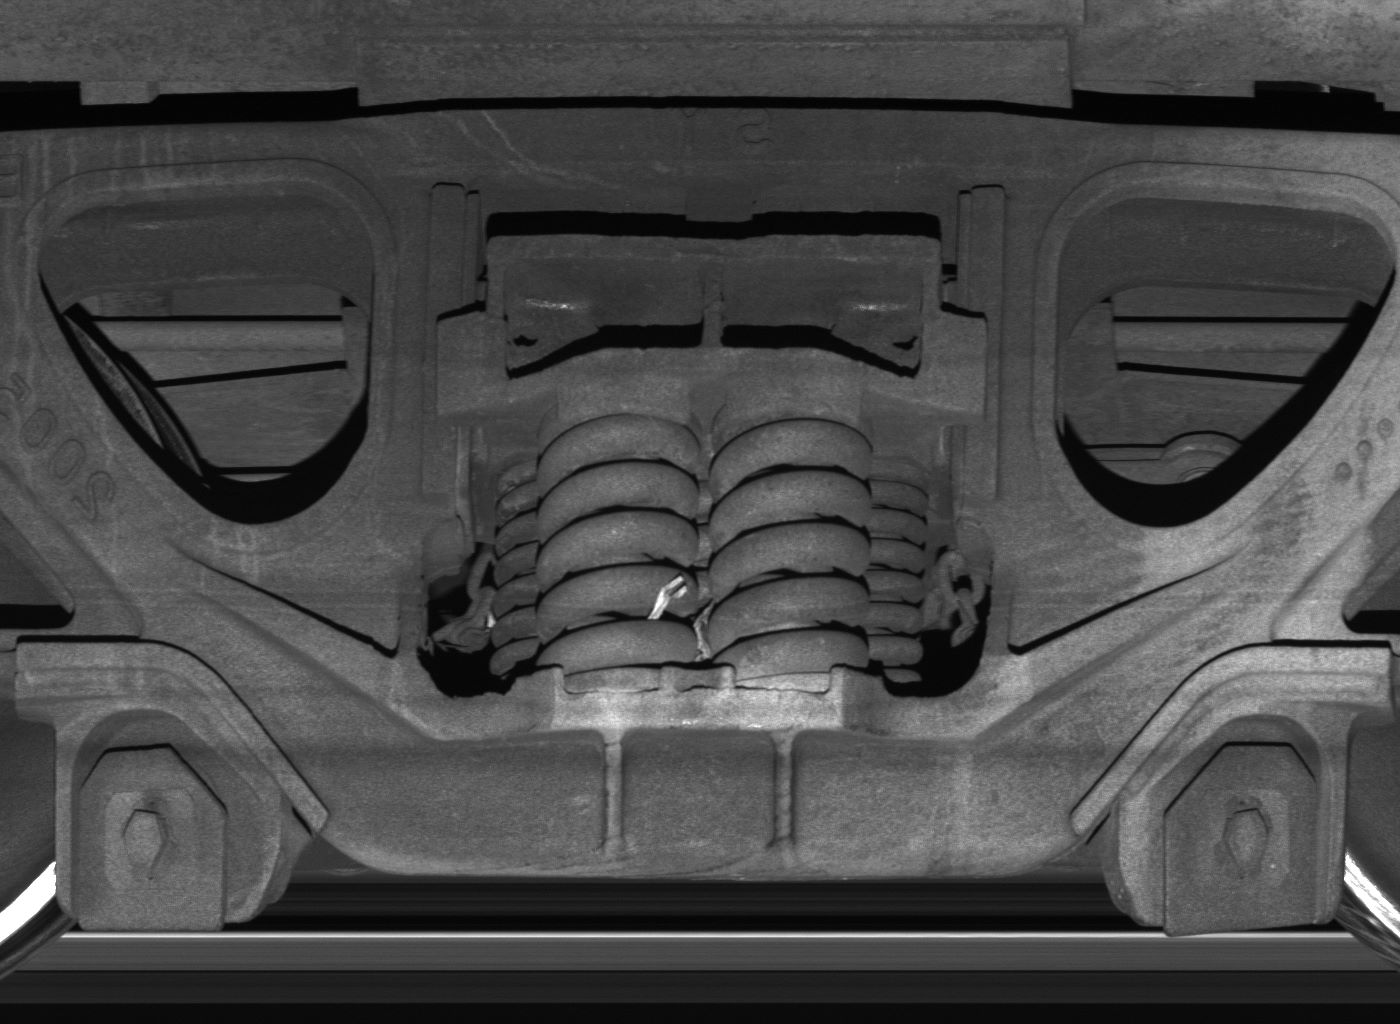normal: (1118, 713, 1348, 935), (54, 708, 271, 929)
